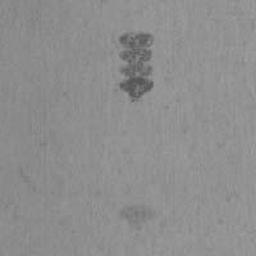Oil spot: (119, 33, 154, 102), (134, 211, 145, 217)
